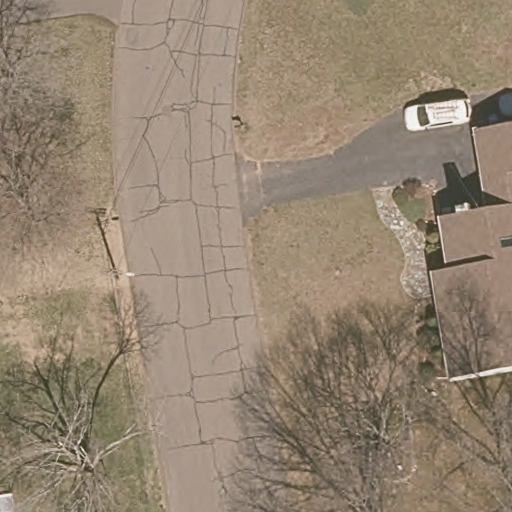DT: (106, 255, 136, 282)
